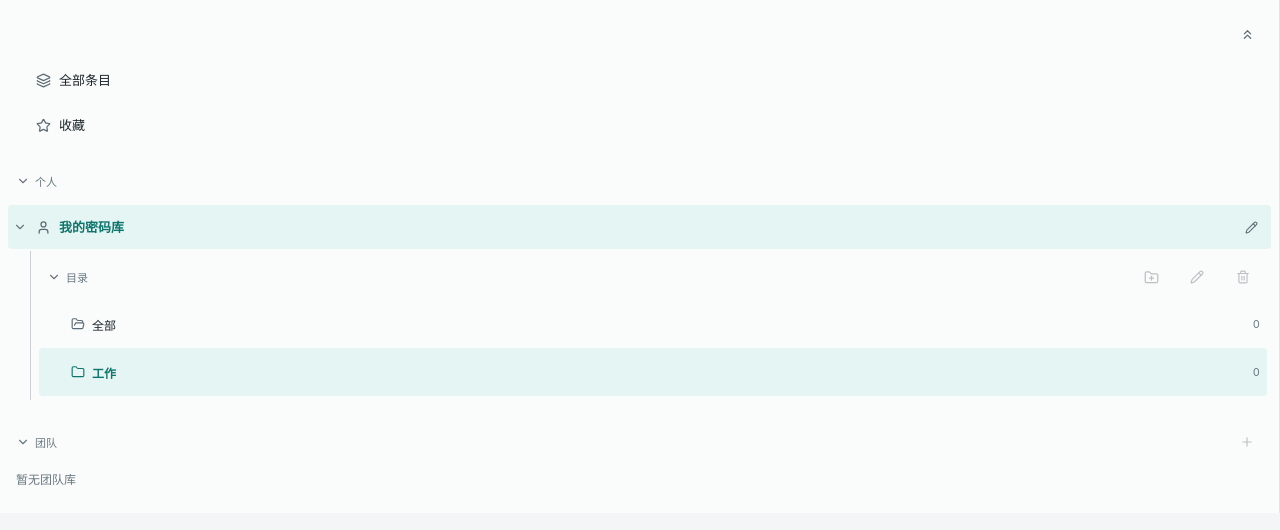
Test case: VaultNav › collapses and restores the currently selected vault when its own row is clicked
expect the button with aria-label "目录：工作" is shown: met, box [68, 350, 1263, 394]
Click the button "我的密码库" at (92, 227), box [32, 212, 1235, 242]
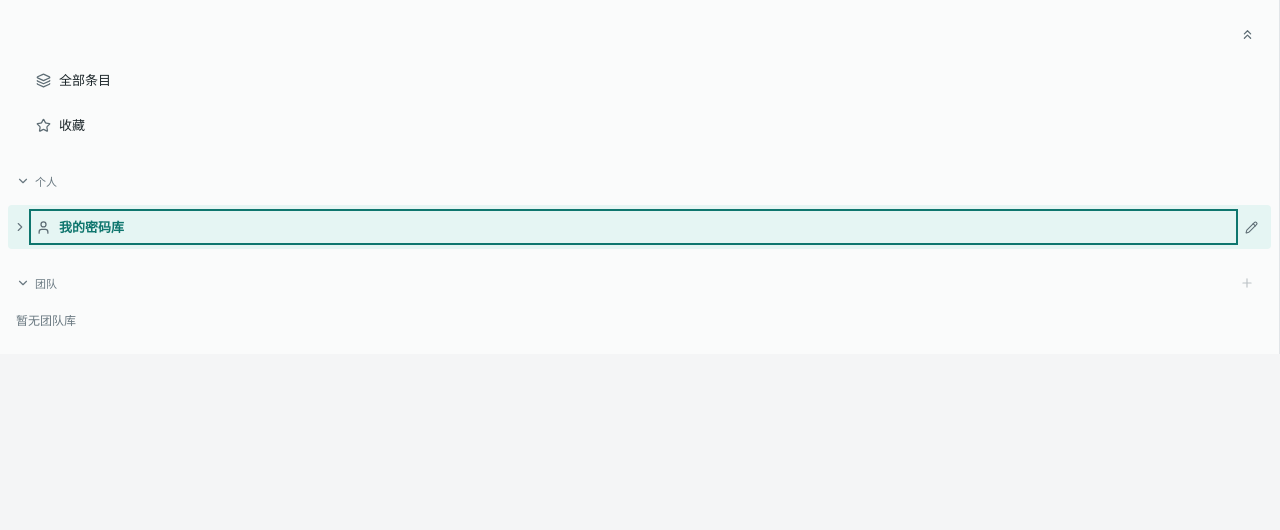
expect the button named "展开我的密码库" is collapsed: met, box [8, 205, 32, 249]
expect the button "目录：工作" is gone: met
Click the button "我的密码库" at (92, 227), box [32, 212, 1235, 242]
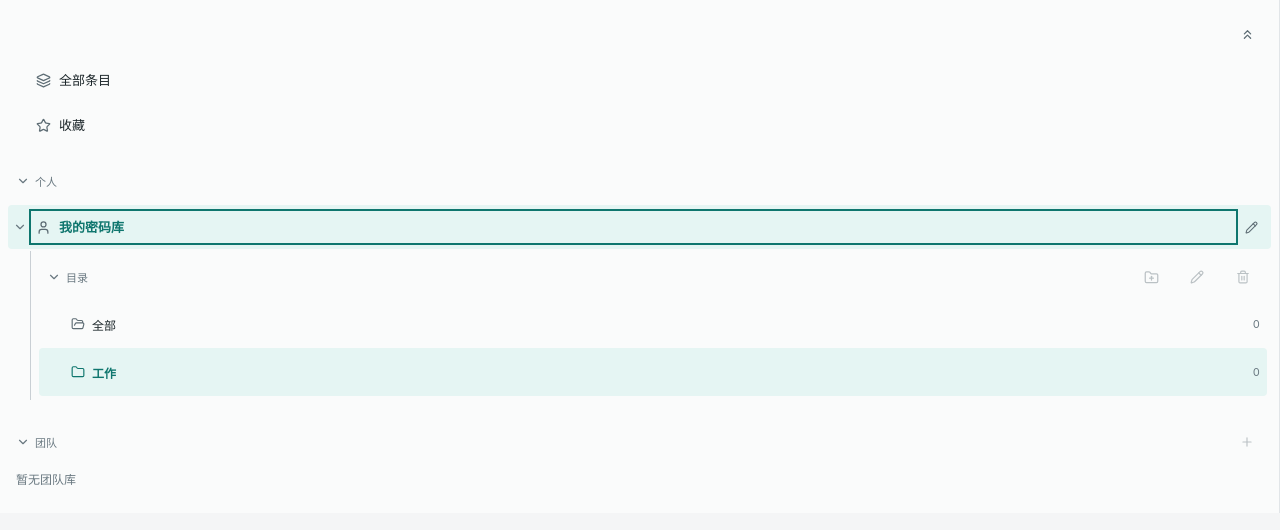
expect the button named "折叠我的密码库" is expanded: met, box [8, 205, 32, 249]
expect the button with aria-label "目录：工作" is shown: met, box [68, 350, 1263, 394]
